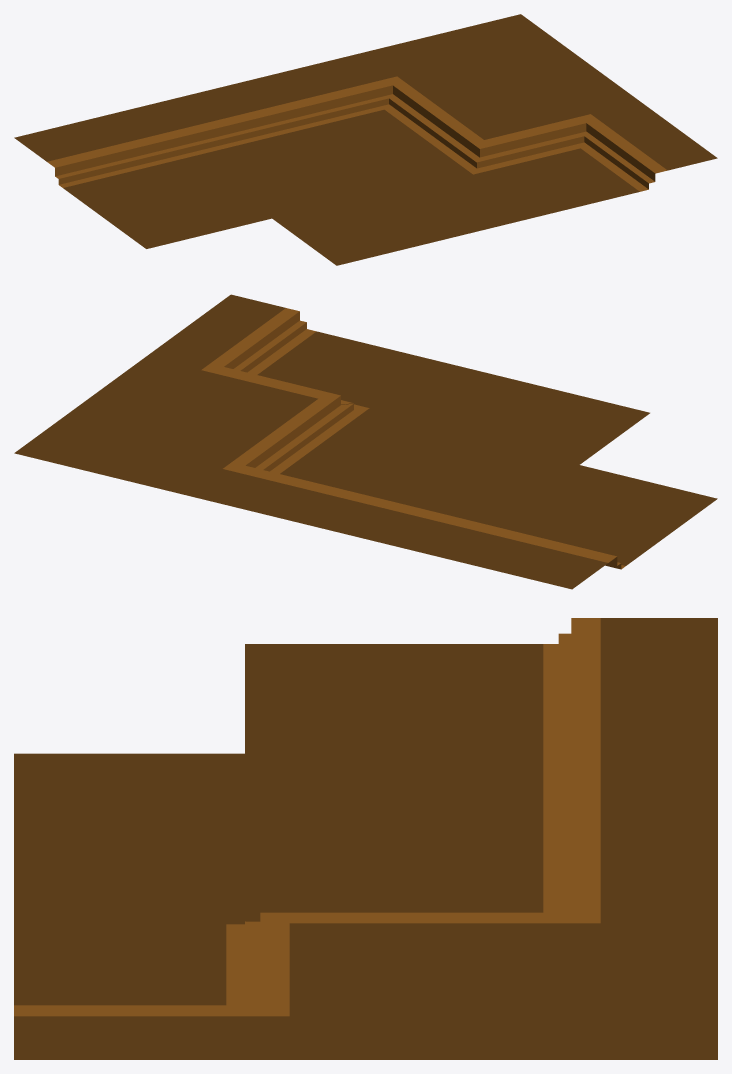
Rendered from Arch_Floor.FBX.
3 views of the same model, one above another, from view 1: azimuth 30°, elevation 25°; view 2: azimuth 150°, elevation 25°; view 3: azimuth 270°, elevation 25° (orthographic). The views are drawn at different scales.
Parts seen in each view (by area): view 1: Arch_Floor; view 2: Arch_Floor; view 3: Arch_Floor.
Part boxes in pixels (x1,y1,x2,y2): Arch_Floor: [14, 14, 717, 265]; Arch_Floor: [14, 294, 717, 589]; Arch_Floor: [14, 618, 717, 1059].
Size of the model in its own units: 1479 by 40.48 by 996.
1 material, 1 textured.
